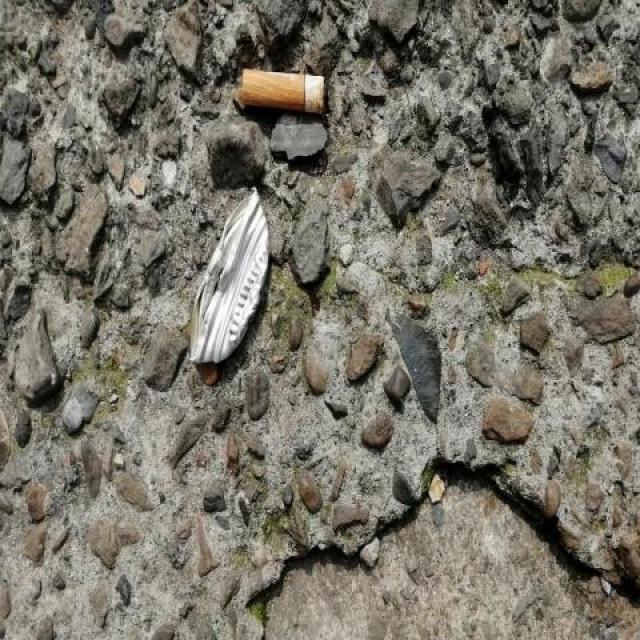non-organic waste: (239, 64, 332, 121)
